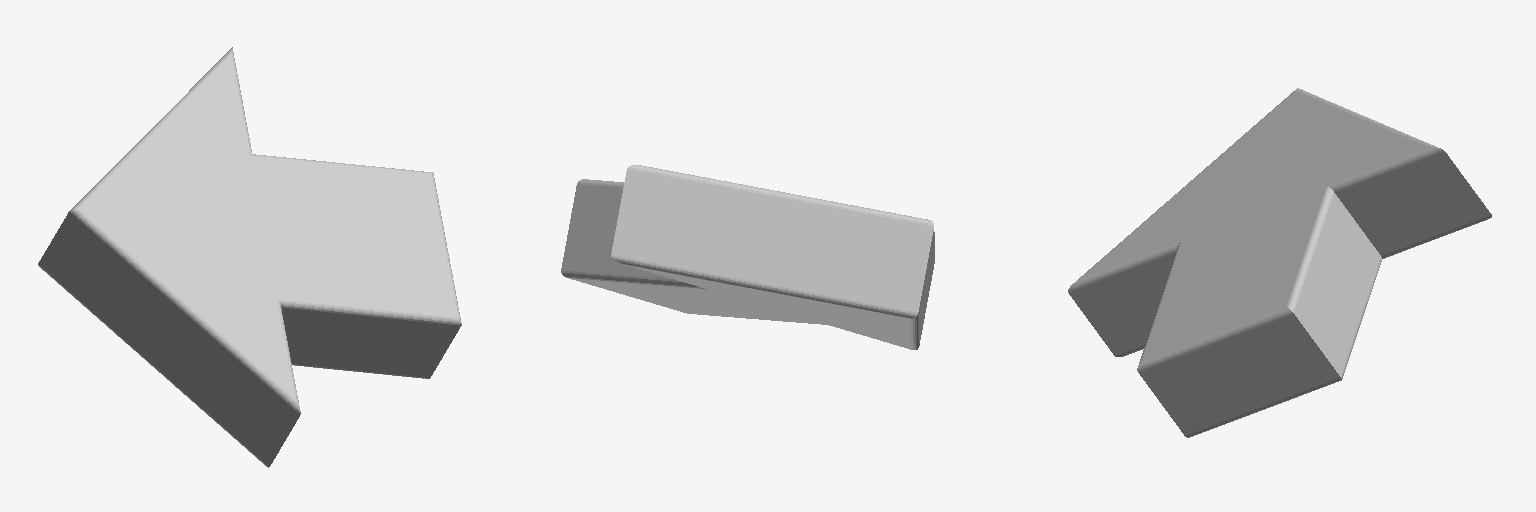
File: riddick_upvote_halberd.obj
3 views of the same model, side by side, from view 1: azimuth 30°, elevation 25°; view 2: azimuth 150°, elevation 25°; view 3: azimuth 270°, elevation 25° (orthographic).
Visible parts, largest first — view 1: plain_upvote_beveled:pCube1 pCube1; view 2: plain_upvote_beveled:pCube1 pCube1; view 3: plain_upvote_beveled:pCube1 pCube1.
Boxes of the visible parts, x1,y1,x2,y2 form: plain_upvote_beveled:pCube1 pCube1: [38, 47, 461, 467]; plain_upvote_beveled:pCube1 pCube1: [561, 165, 934, 349]; plain_upvote_beveled:pCube1 pCube1: [1068, 88, 1491, 437].
Size of the model in its own units: 10.37 by 7.28 by 10.35.